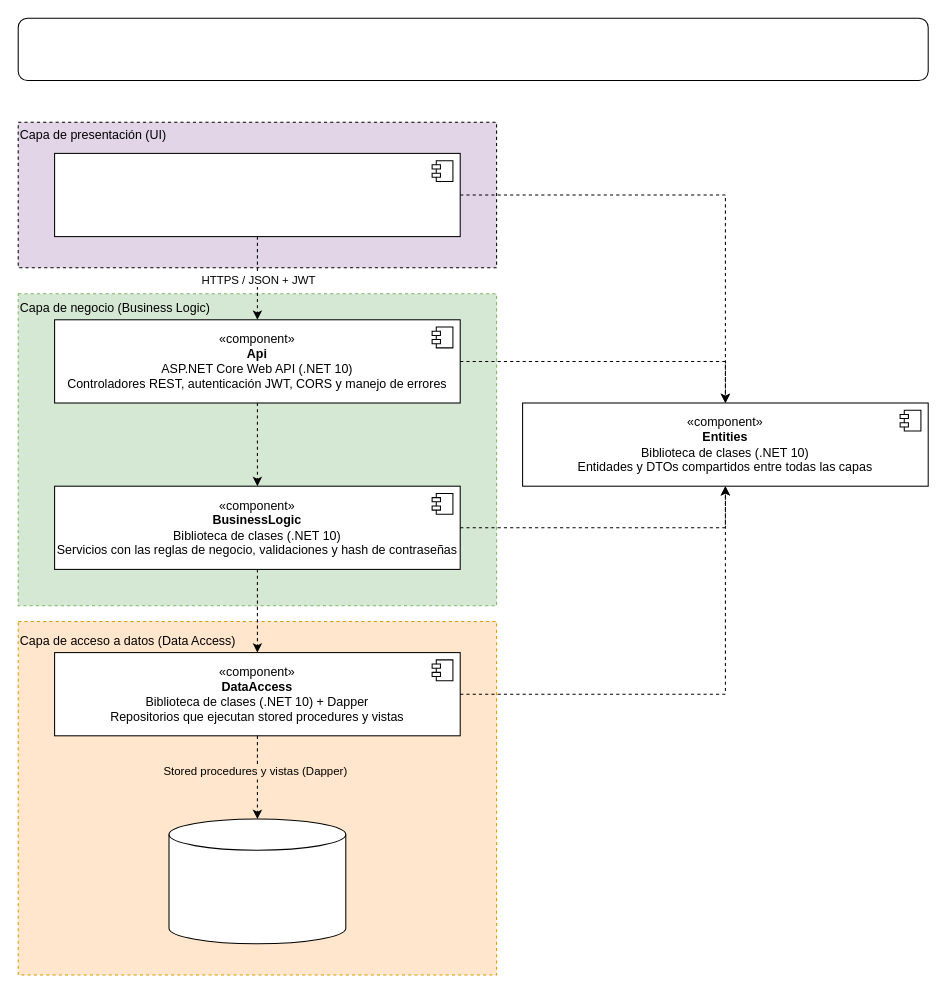
Some shapes in this 946 by 993 pixel diagram are drawn without their labels. Each missing label, with the centre of its shape:
"Diagrama de componentes — BSC" goes at [472,49].
"SQL Server 2025 database_bsc tablas, SPs, vistas, trigger e índices" goes at [257,881].
"«component» web Blazor WebAssembly (.NET 10) Login, menú y pantallas por perfil" goes at [257,194].
